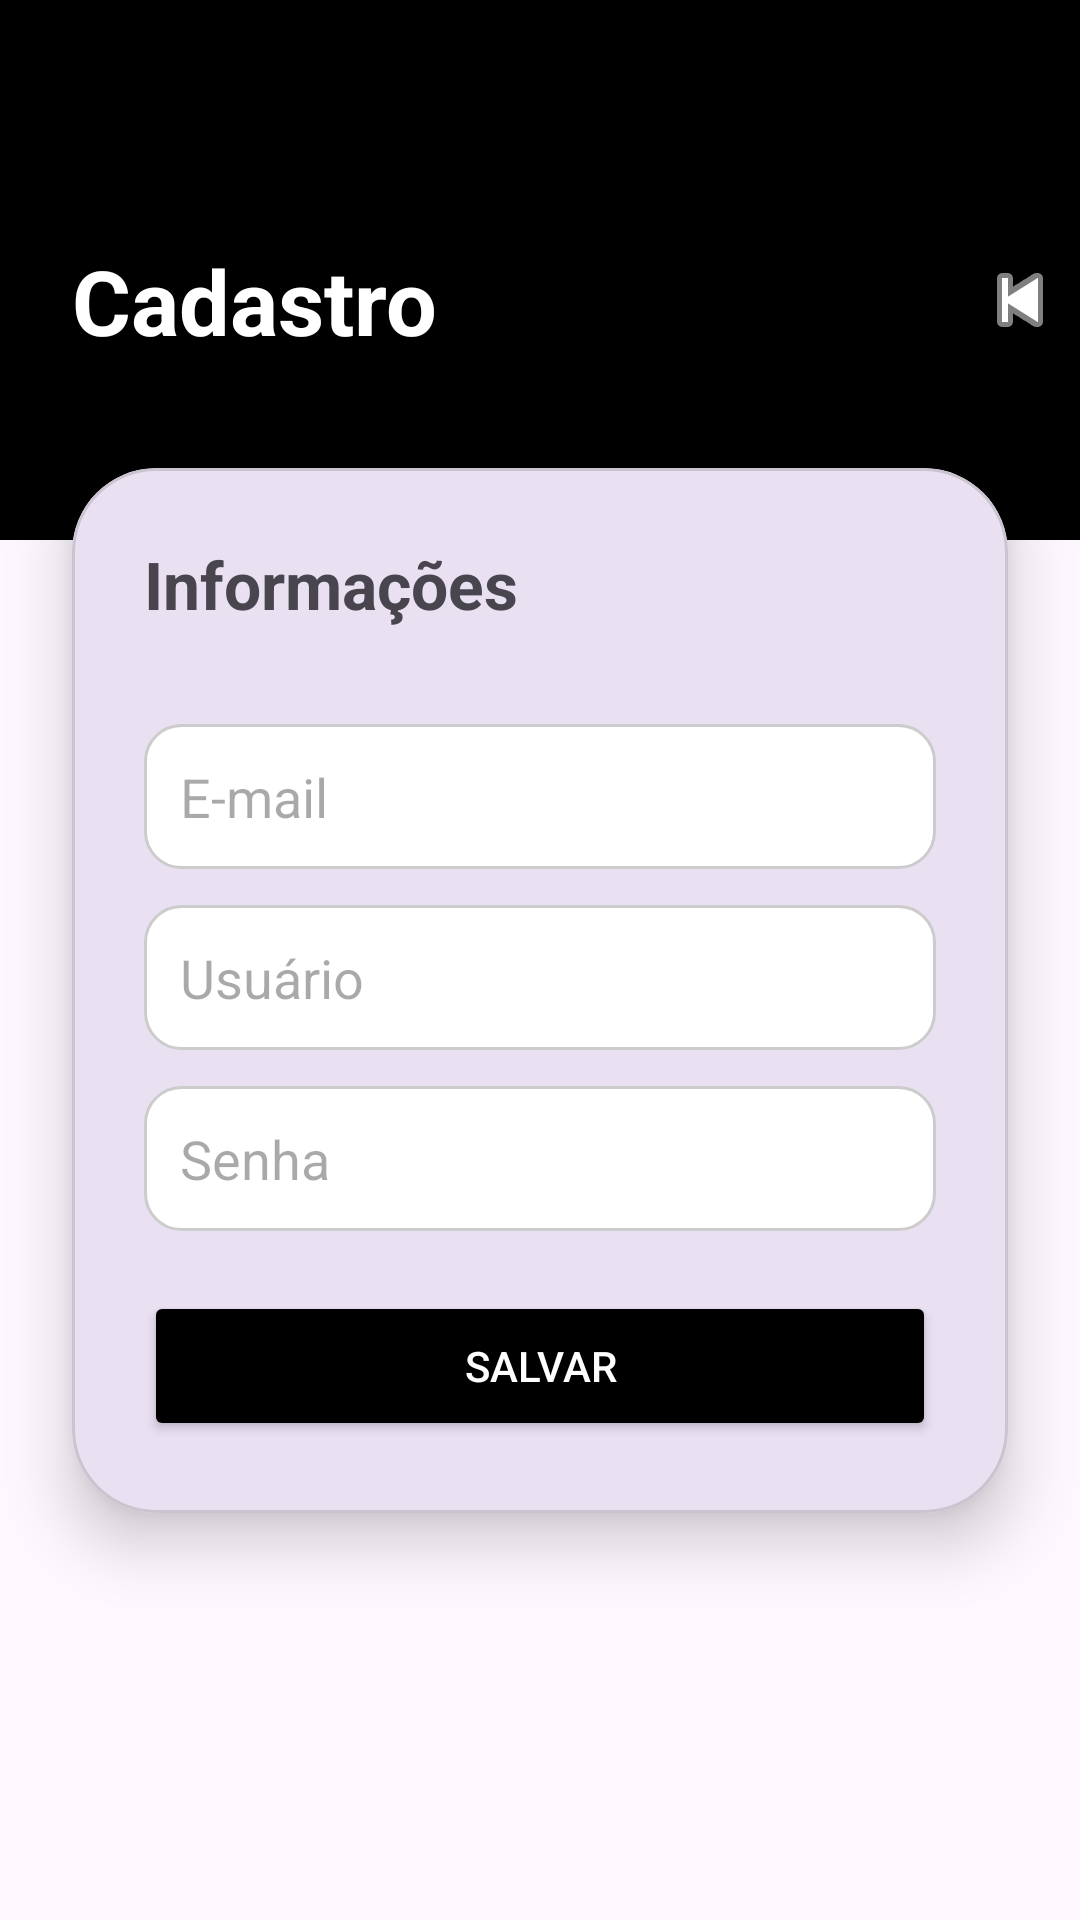

Screen size 1080 x 1920. Icon name, then its center in pixels as [x,y]:
previous: [1020,300]
